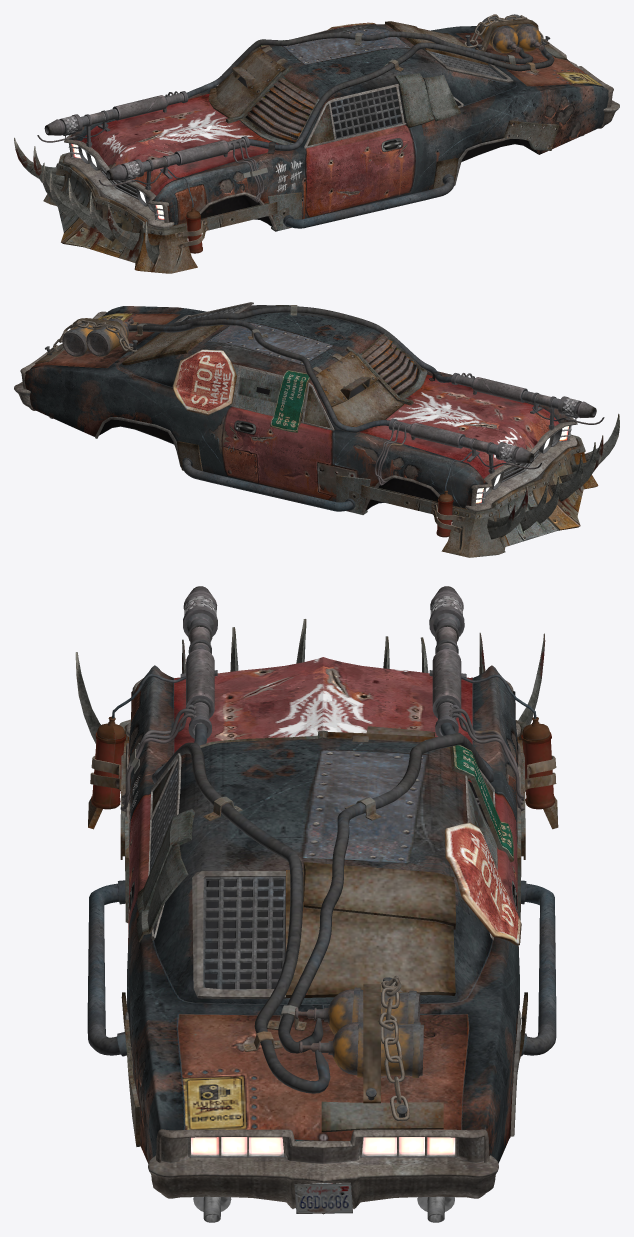
File: car.glb
3 views of the same model, one above another, from view 1: azimuth 30°, elevation 25°; view 2: azimuth 150°, elevation 25°; view 3: azimuth 270°, elevation 25° (orthographic). The views are drawn at different scales.
Visible parts, largest first — view 1: Object_12, Object_5, Object_2, Object_7, Object_6, Object_10, Object_8, Object_13, Object_3, Object_4; view 2: Object_12, Object_2, Object_5, Object_10, Object_6, Object_7, Object_8, Object_3, Object_4, Object_11; view 3: Object_5, Object_12, Object_2, Object_6, Object_3, Object_8, Object_10, Object_7, Object_4, Object_11.
Boxes of the visible parts, bbox=[...] form: Object_12: bbox=[69, 26, 608, 253]; Object_5: bbox=[43, 24, 583, 273]; Object_2: bbox=[14, 19, 569, 264]; Object_7: bbox=[63, 31, 533, 228]; Object_6: bbox=[231, 36, 613, 228]; Object_10: bbox=[44, 91, 249, 190]; Object_8: bbox=[430, 14, 544, 82]; Object_13: bbox=[37, 120, 559, 186]; Object_3: bbox=[68, 14, 619, 220]; Object_4: bbox=[78, 15, 549, 208]; Object_12: bbox=[24, 306, 572, 537]; Object_2: bbox=[35, 302, 619, 539]; Object_5: bbox=[49, 305, 598, 557]; Object_10: bbox=[388, 373, 596, 473]; Object_6: bbox=[20, 306, 474, 511]; Object_7: bbox=[128, 319, 577, 511]; Object_8: bbox=[62, 304, 246, 357]; Object_3: bbox=[14, 319, 571, 504]; Object_4: bbox=[47, 321, 557, 496]; Object_11: bbox=[374, 373, 472, 485]; Object_5: bbox=[88, 657, 558, 1222]; Object_12: bbox=[91, 665, 555, 1163]; Object_2: bbox=[75, 619, 556, 1213]; Object_6: bbox=[87, 704, 556, 1162]; Object_3: bbox=[148, 975, 498, 1214]; Object_8: bbox=[203, 876, 423, 1077]; Object_10: bbox=[180, 586, 466, 738]; Object_7: bbox=[125, 716, 520, 1053]; Object_4: bbox=[189, 989, 456, 1157]; Object_11: bbox=[120, 704, 524, 811].
Bounding box in the file's own units: 1.8 × 0.4203 × 0.7166.
Materials: 1 (1 with a texture image).
